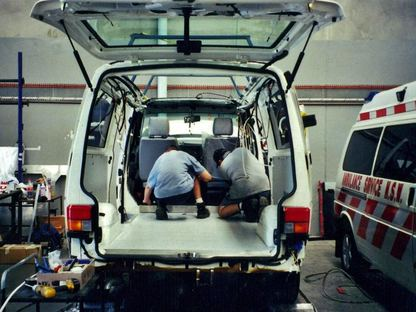ambulance: (331, 81, 416, 299)
